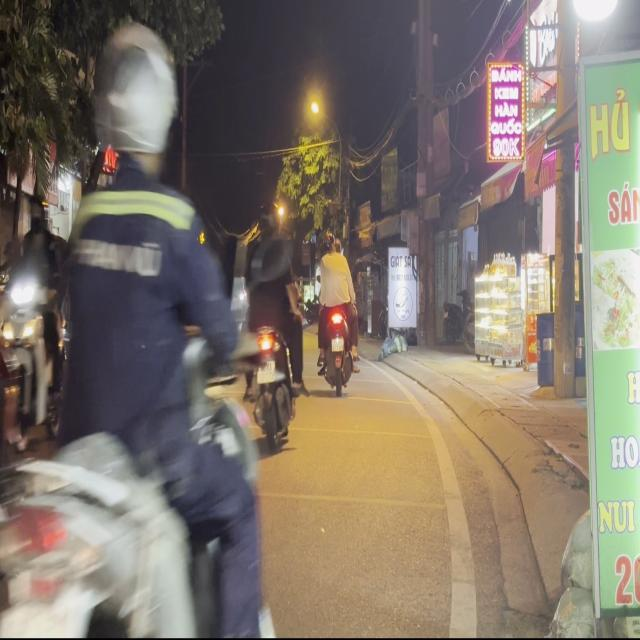helmet: (88, 24, 182, 185), (256, 200, 281, 239), (26, 194, 50, 230)
licenseplate: (0, 23, 281, 634), (2, 193, 80, 460), (237, 196, 306, 452)
nohelmet: (256, 360, 276, 383)
